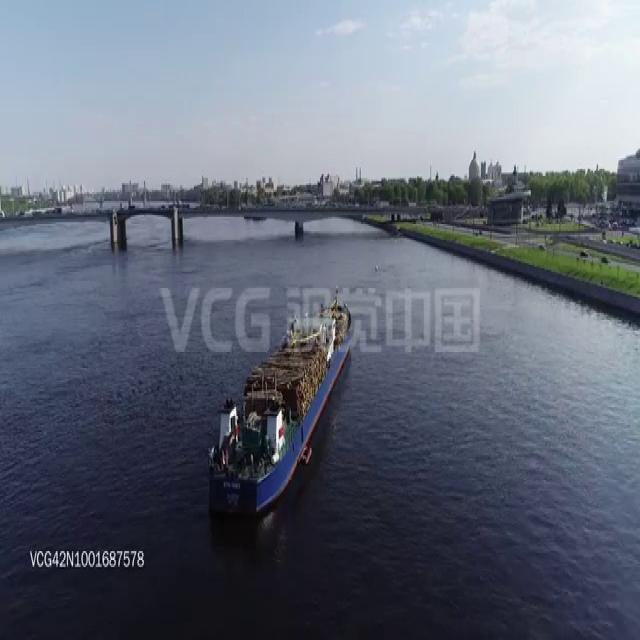cargoship: (210, 282, 354, 521)
